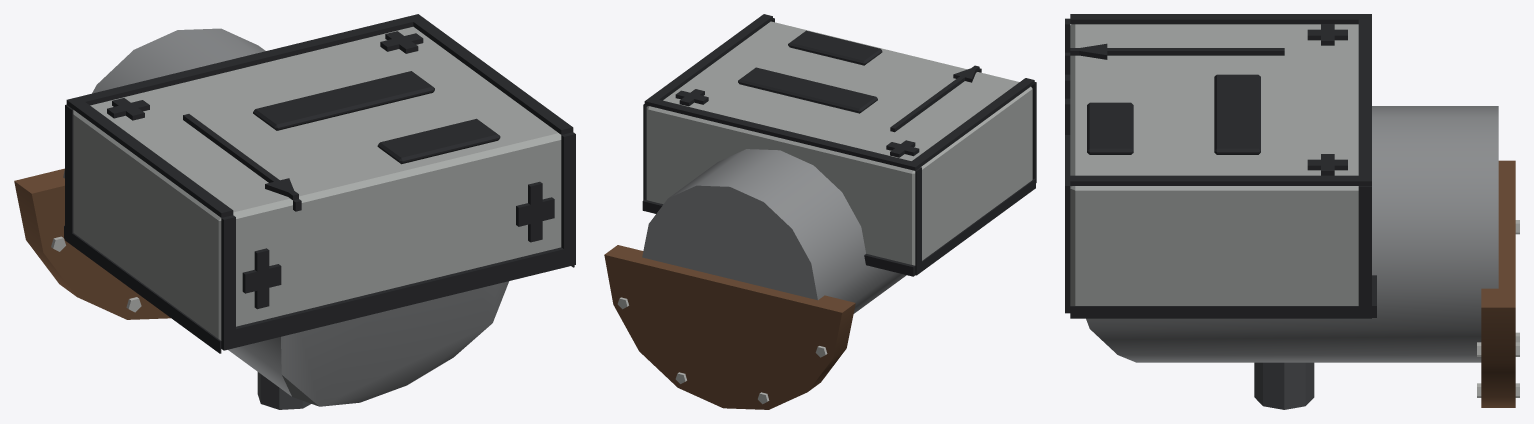
Rendered from overflow-valve-south.glb.
3 renders of one model, left to right at view 1: azimuth 30°, elevation 25°; view 2: azimuth 150°, elevation 25°; view 3: azimuth 270°, elevation 25°, orthographic. The views are drawn at different scales.
Parts seen in each view (by area): view 1: body; view 2: body; view 3: body.
Boxes of the visible parts, x1,y1,x2,y2 form: body: (14, 14, 575, 409); body: (604, 14, 1036, 409); body: (1065, 14, 1519, 409).
Bounding box in the file's own units: 0.932 × 0.776 × 1.06.
